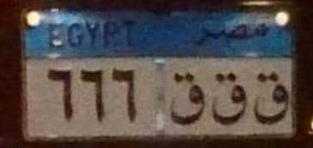6: (110, 64, 142, 126), (78, 64, 105, 122), (47, 69, 75, 120)
qaaf: (251, 64, 293, 129), (208, 66, 248, 131), (166, 68, 206, 130)
